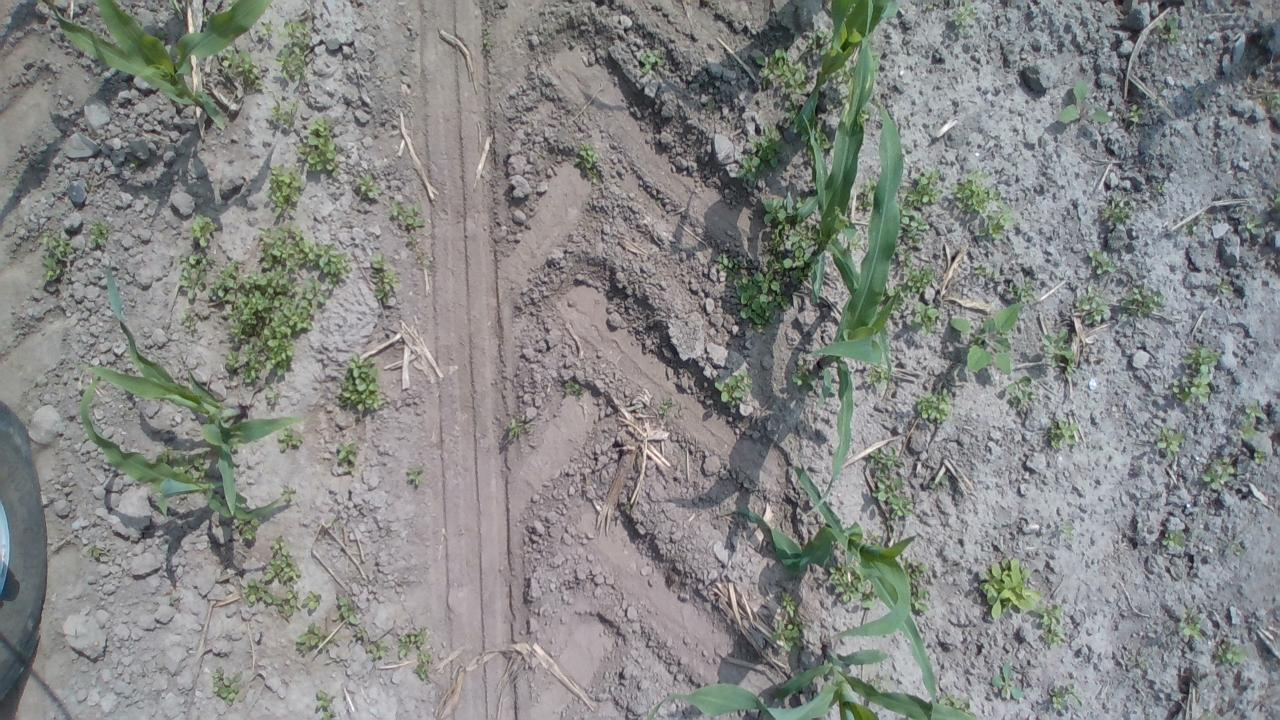Maize: (82, 260, 302, 522), (712, 459, 942, 704), (801, 98, 905, 519), (798, 31, 894, 400), (69, 373, 292, 525), (52, 0, 276, 130), (646, 644, 976, 720), (790, 0, 901, 133)
Weeds: (206, 224, 352, 384), (949, 303, 1025, 375), (758, 193, 819, 270), (977, 557, 1046, 620), (730, 270, 789, 334), (734, 120, 791, 184), (1171, 345, 1223, 402), (1054, 78, 1112, 126), (751, 46, 808, 94), (340, 354, 386, 412), (298, 116, 340, 176), (828, 561, 879, 609), (950, 167, 1001, 214), (263, 162, 304, 218), (274, 22, 312, 81), (35, 231, 74, 288), (892, 254, 934, 304), (222, 46, 264, 91), (1040, 327, 1074, 376), (901, 170, 944, 207), (265, 540, 301, 584), (178, 255, 213, 300), (896, 202, 930, 248), (713, 368, 754, 406), (990, 656, 1025, 700), (974, 204, 1016, 240), (370, 255, 400, 304), (915, 387, 954, 424), (1120, 286, 1164, 318), (294, 623, 340, 653), (1076, 288, 1112, 324), (172, 450, 208, 484), (574, 143, 602, 186), (242, 578, 282, 607), (1200, 458, 1234, 492), (1039, 606, 1066, 648), (770, 622, 806, 652), (1156, 426, 1186, 461), (212, 670, 242, 705), (910, 300, 939, 336), (389, 200, 426, 228), (1048, 418, 1080, 450), (190, 212, 218, 248), (1239, 404, 1263, 442), (334, 440, 360, 475), (1006, 374, 1040, 400), (952, 0, 978, 33), (398, 629, 426, 659), (270, 102, 300, 130), (1049, 686, 1081, 712), (1178, 606, 1202, 640), (1156, 14, 1184, 43), (86, 219, 112, 250), (856, 176, 879, 211), (277, 586, 302, 618), (792, 362, 817, 394), (1102, 200, 1134, 224), (900, 557, 930, 582), (336, 596, 361, 626), (1215, 642, 1248, 664), (1088, 249, 1117, 274), (1006, 278, 1036, 302), (276, 426, 303, 452), (640, 47, 666, 74), (355, 175, 382, 200), (826, 60, 856, 82), (864, 365, 892, 388), (712, 253, 745, 272), (938, 694, 970, 713), (1124, 102, 1144, 132), (314, 687, 332, 720), (910, 586, 931, 614), (776, 590, 796, 618), (814, 125, 834, 152), (414, 652, 432, 681), (784, 96, 798, 132), (1161, 530, 1186, 550), (801, 132, 814, 168), (239, 520, 260, 542), (153, 444, 175, 465), (824, 94, 847, 114), (176, 310, 196, 332), (807, 30, 831, 48), (974, 262, 1000, 278), (302, 590, 322, 610), (366, 640, 386, 658), (1246, 214, 1264, 234), (406, 466, 424, 485), (258, 18, 276, 37), (928, 474, 949, 489), (264, 388, 282, 405), (507, 417, 522, 437), (1267, 92, 1280, 114), (791, 268, 805, 287), (86, 543, 102, 559), (167, 0, 183, 15), (864, 532, 881, 546), (1218, 280, 1234, 294), (658, 398, 671, 415), (803, 262, 815, 280), (282, 487, 296, 502), (151, 30, 165, 45), (483, 28, 493, 49), (351, 626, 368, 638), (1231, 542, 1244, 556), (567, 380, 581, 393), (859, 105, 871, 120), (1253, 448, 1264, 464), (128, 158, 142, 170), (1200, 711, 1216, 720), (230, 443, 246, 452), (226, 0, 239, 11), (1273, 192, 1280, 212), (1062, 526, 1074, 537), (200, 14, 210, 27), (704, 102, 714, 114), (1156, 185, 1168, 194), (1184, 223, 1194, 232), (1194, 90, 1202, 101), (1257, 94, 1266, 103), (407, 234, 416, 241), (329, 521, 336, 528), (35, 0, 43, 5)
